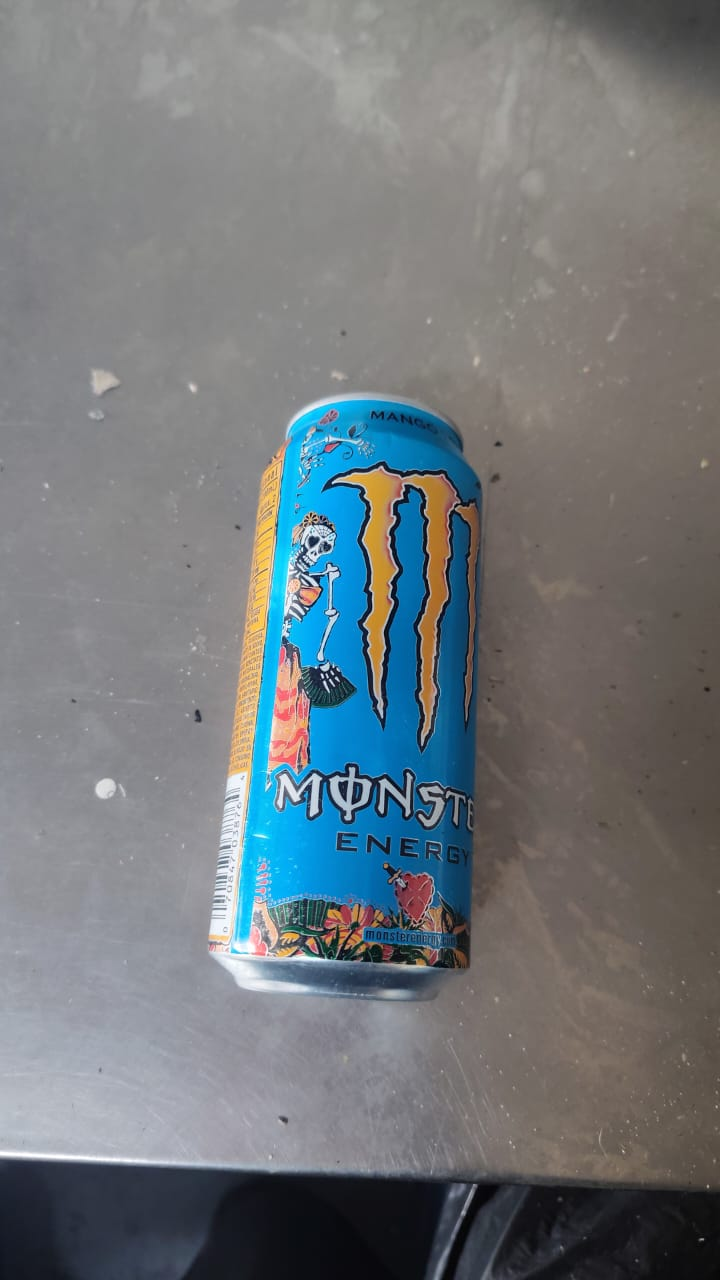Metal: (209, 391, 480, 1003)
